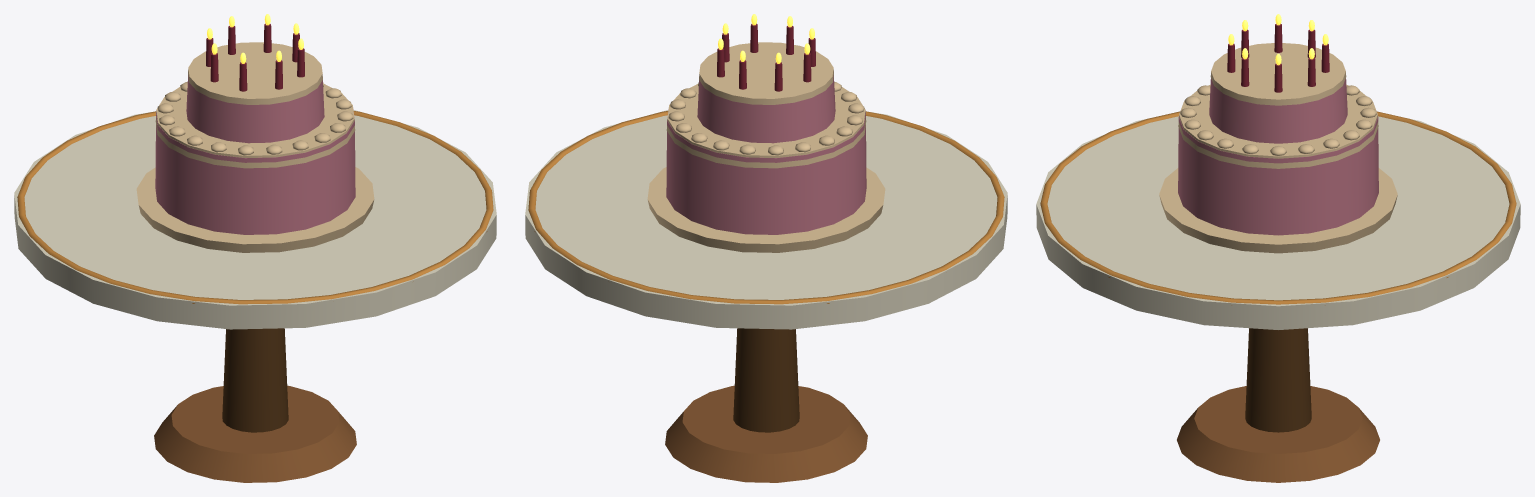
File: mia-cake_table.glb
The picture shows the model from 3 angles, left to right: view 1: azimuth 30°, elevation 25°; view 2: azimuth 150°, elevation 25°; view 3: azimuth 270°, elevation 25°; orthographic projection.
Parts seen in each view (by area): view 1: Body_mattress, Body_cake-rose, Body_ivory, Body_oak, Body_wood, Body_brass, Body_velvet; view 2: Body_mattress, Body_cake-rose, Body_ivory, Body_oak, Body_wood, Body_brass, Body_velvet; view 3: Body_mattress, Body_cake-rose, Body_ivory, Body_oak, Body_wood, Body_brass, Body_velvet, Body_amber.
Part boxes in pixels (<box>): Body_mattress: <box>14,110,496,329</box>; Body_cake-rose: <box>155,75,355,234</box>; Body_ivory: <box>136,42,374,252</box>; Body_oak: <box>154,385,356,482</box>; Body_wood: <box>222,328,288,432</box>; Body_brass: <box>17,111,493,304</box>; Body_velvet: <box>206,23,304,91</box>; Body_mattress: <box>525,110,1007,329</box>; Body_cake-rose: <box>666,75,866,234</box>; Body_ivory: <box>647,42,885,252</box>; Body_oak: <box>665,385,867,482</box>; Body_wood: <box>733,328,799,432</box>; Body_brass: <box>528,111,1004,304</box>; Body_velvet: <box>717,23,815,91</box>; Body_mattress: <box>1036,116,1520,329</box>; Body_cake-rose: <box>1178,78,1378,235</box>; Body_ivory: <box>1159,43,1397,253</box>; Body_oak: <box>1177,386,1379,482</box>; Body_wood: <box>1245,328,1311,432</box>; Body_brass: <box>1040,111,1516,305</box>; Body_velvet: <box>1227,24,1329,92</box>; Body_amber: <box>1228,14,1328,65</box>.
Bounding box in the file's own units: 1.41 × 1.34 × 1.41.
